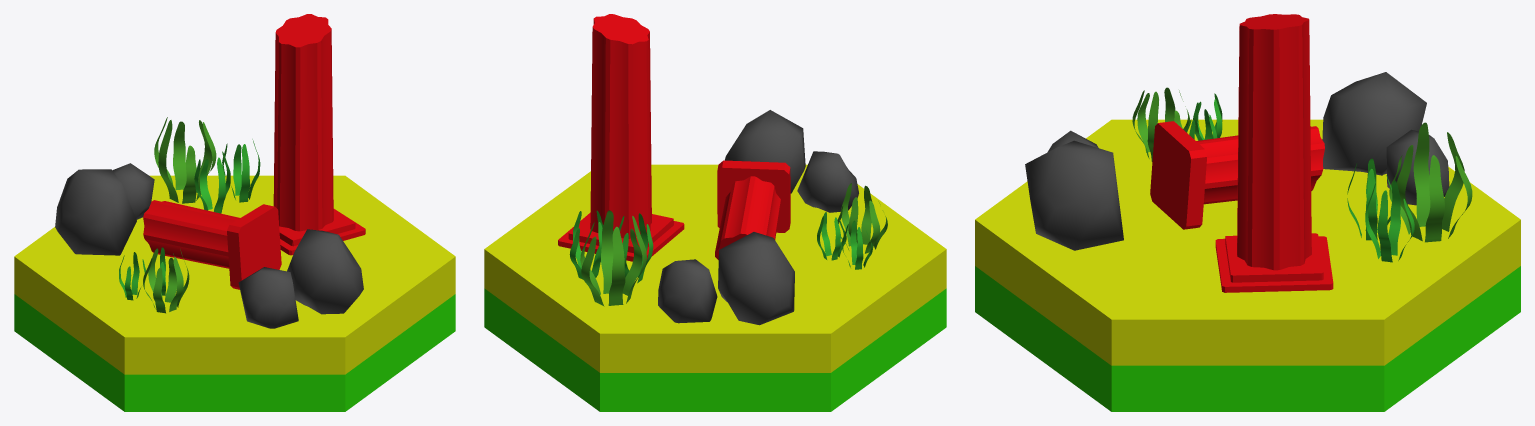
The model's file is HexagonNonconstructible.fbx.
The picture shows the model from 3 angles, left to right: view 1: azimuth 30°, elevation 25°; view 2: azimuth 150°, elevation 25°; view 3: azimuth 270°, elevation 25°; orthographic projection. The views are drawn at different scales.
Parts seen in each view (by area): view 1: Circle, Cylinder, Icosphere, Seaweed; view 2: Circle, Cylinder, Icosphere, Seaweed; view 3: Circle, Cylinder, Icosphere, Seaweed.
Boxes of the visible parts, x1,y1,x2,y2 form: Circle: (14,175,455,411); Cylinder: (143,14,365,289); Icosphere: (55,163,363,328); Seaweed: (119,117,260,313); Circle: (484,164,946,411); Cylinder: (558,14,790,261); Icosphere: (658,110,858,325); Seaweed: (569,183,887,306); Circle: (975,119,1520,411); Cylinder: (1150,14,1333,292); Icosphere: (1025,72,1449,250); Seaweed: (1132,87,1472,262).
Size of the model in its own units: 173 by 140 by 200.
